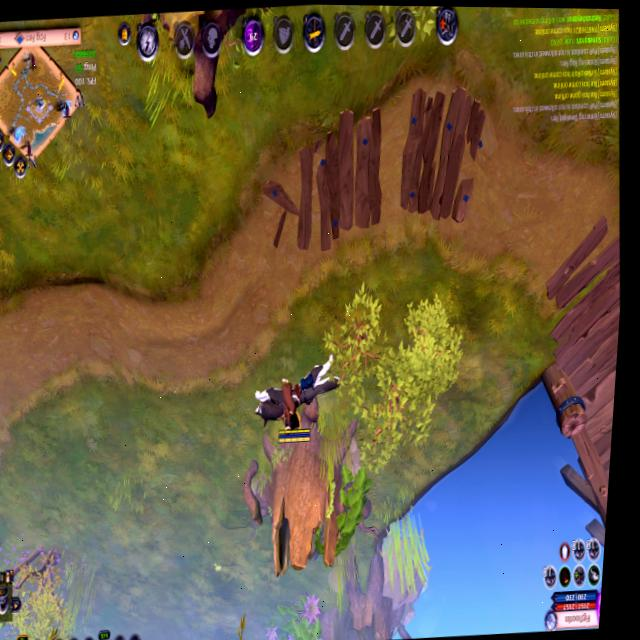red: (239, 336, 355, 454)
